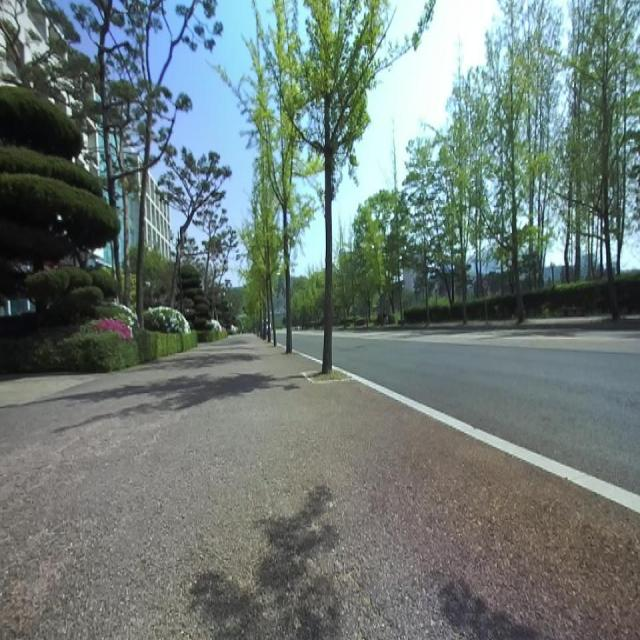sidewalk: (0, 335, 640, 639), (526, 317, 607, 323)
